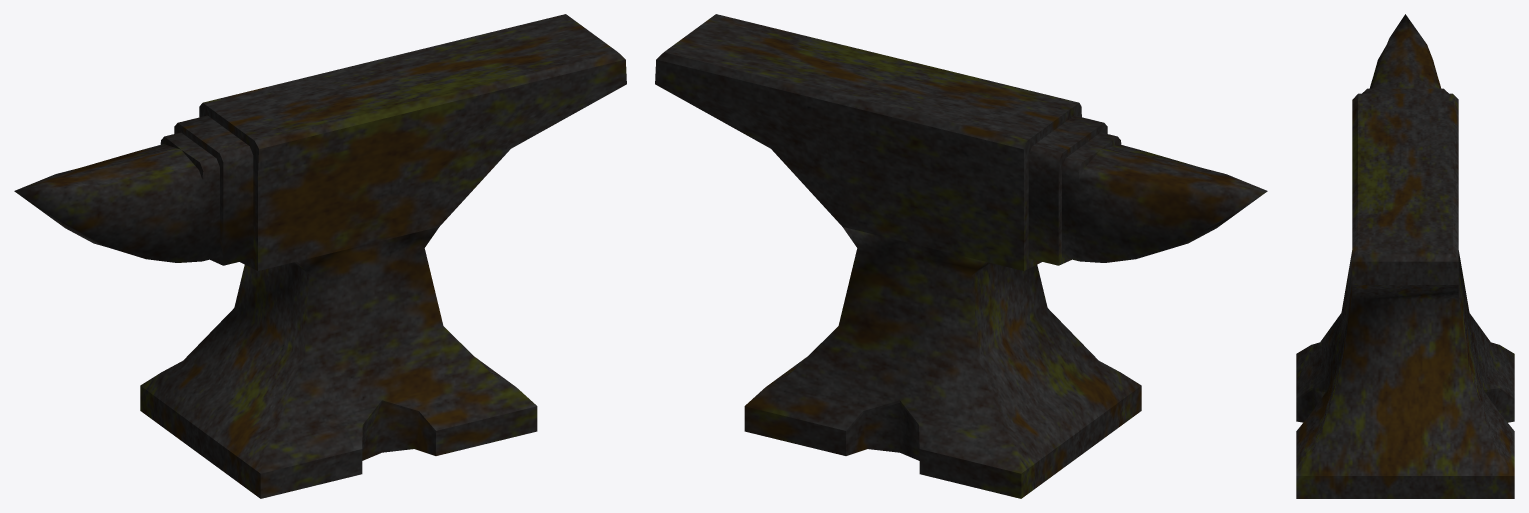
The model's file is Anvil.fbx.
The picture shows the model from 3 angles, left to right: view 1: azimuth 30°, elevation 25°; view 2: azimuth 150°, elevation 25°; view 3: azimuth 270°, elevation 25°; orthographic projection. The views are drawn at different scales.
Visible parts, largest first — view 1: Anvil; view 2: Anvil; view 3: Anvil.
Part boxes in pixels (<box>): Anvil: <box>14,14,626,498</box>; Anvil: <box>655,14,1267,498</box>; Anvil: <box>1296,14,1514,498</box>.
Bounding box in the file's own units: 1.88 × 1 × 0.6717.
